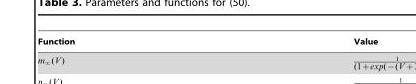table: (37, 36, 377, 45)
table column: (37, 36, 213, 45), (213, 36, 377, 45)
table column header: (37, 36, 377, 45)
table row: (37, 36, 377, 45)
